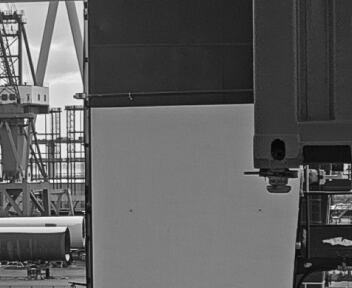twist_lock_1: (154, 151, 214, 195)
